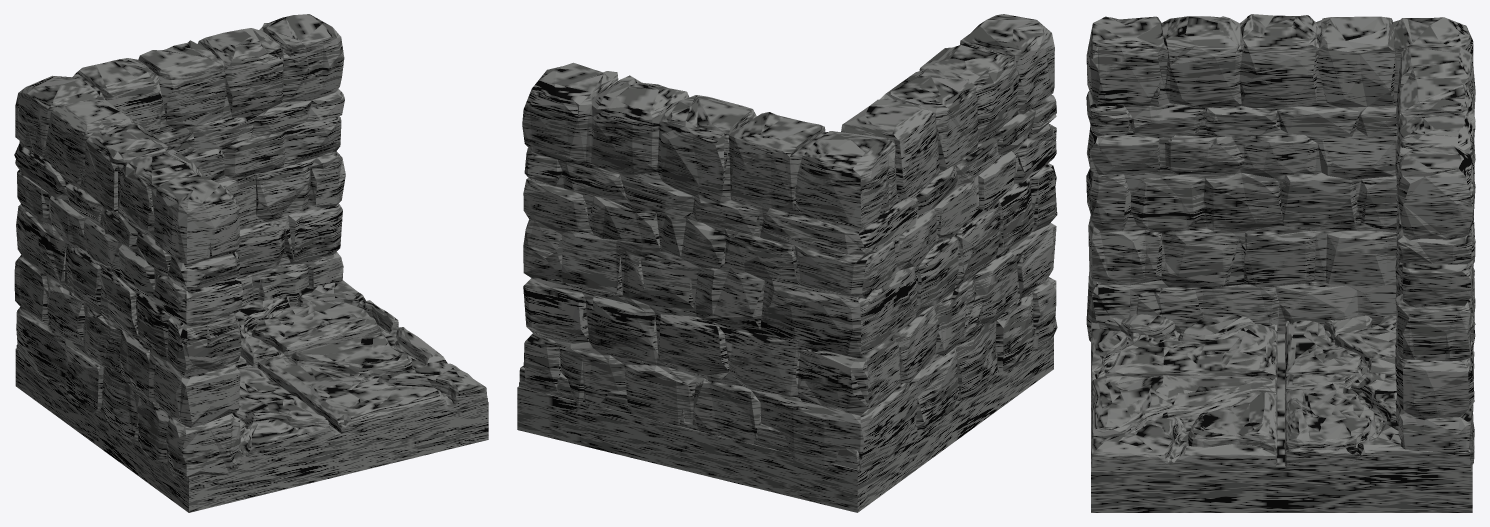
Rendered from rough_stone_concave.fbx.
The picture shows the model from 3 angles, left to right: view 1: azimuth 30°, elevation 25°; view 2: azimuth 150°, elevation 25°; view 3: azimuth 270°, elevation 25°; orthographic projection. The views are drawn at different scales.
Parts seen in each view (by area): view 1: Cube; view 2: Cube; view 3: Cube.
Part boxes in pixels (left/top/right/bottom): Cube: left=14, top=14, right=488, bottom=512; Cube: left=517, top=14, right=1057, bottom=512; Cube: left=1086, top=14, right=1475, bottom=512.
Bounding box in the file's own units: 5112 × 4922 × 5103.
Materials: 1 (1 with a texture image).
